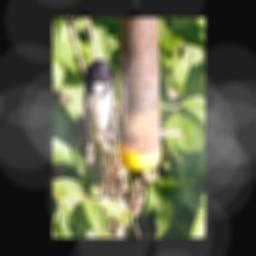Swallow: (82, 57, 121, 148)
